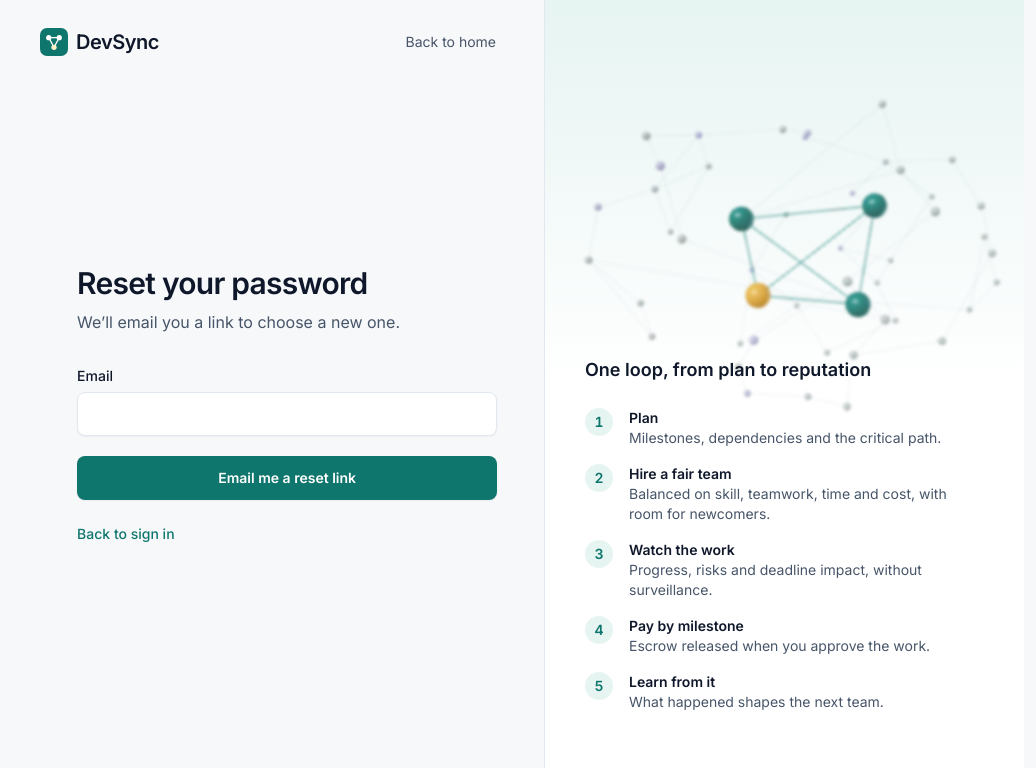
Forgot and reset password › shows the uniform confirmation
The image size is (1036, 768).
In the field labelled "Email": (287, 414) [77,392,497,436], type "nadia@example.com"
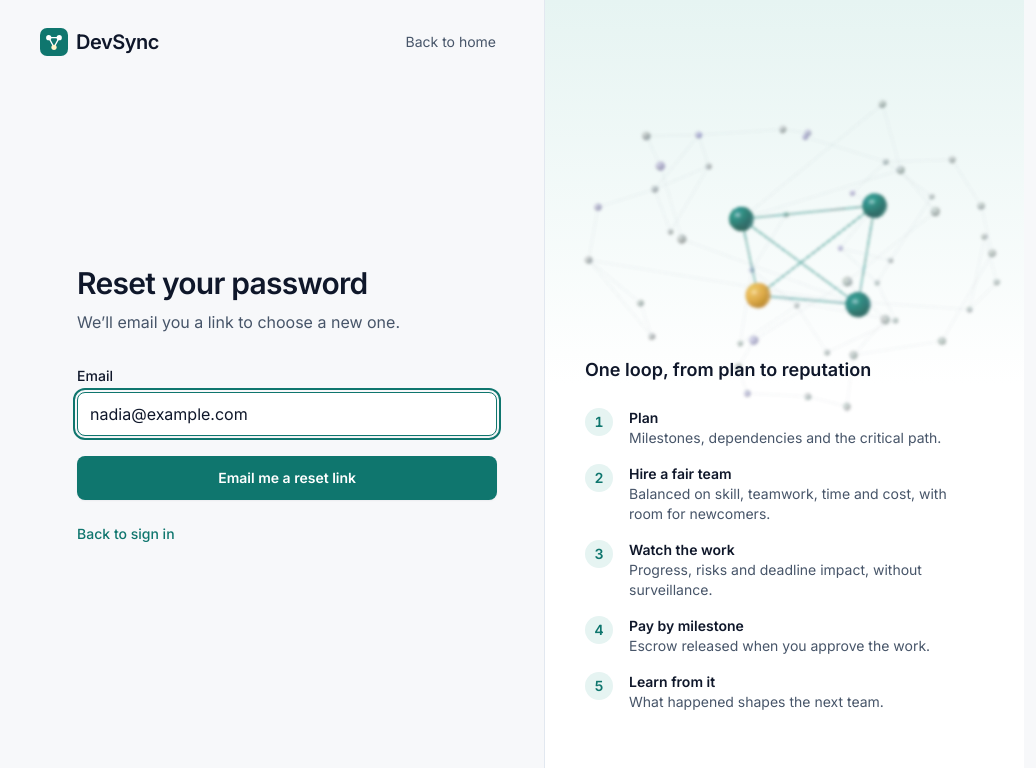
Click the button "Email me a reset link": (287, 478) [77,456,497,500]
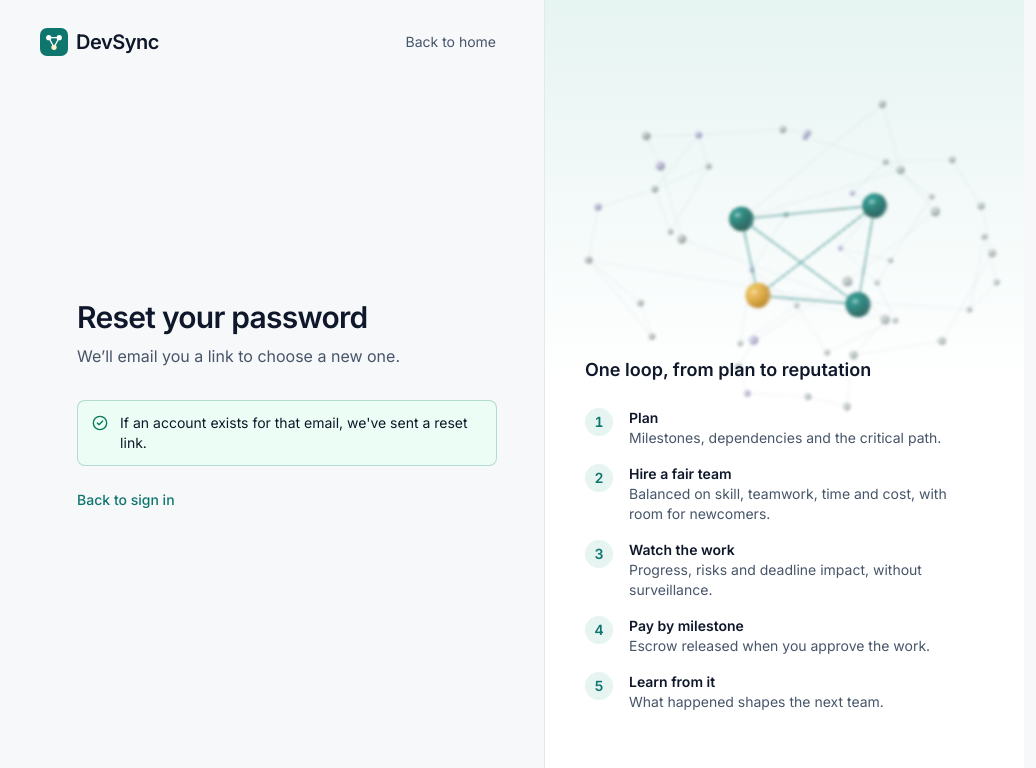
Now the text "If an account exists" is shown, box [120,414,468,451]
